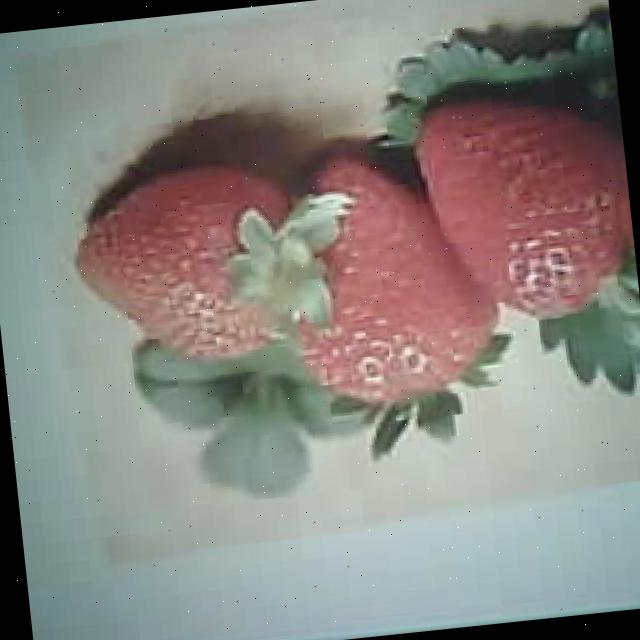strawberry: (279, 144, 498, 410), (414, 78, 640, 328), (64, 162, 290, 366)
